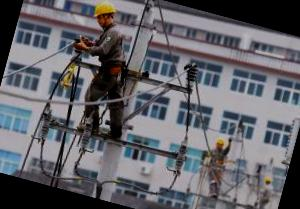person: (59, 0, 159, 144), (192, 134, 238, 201)
